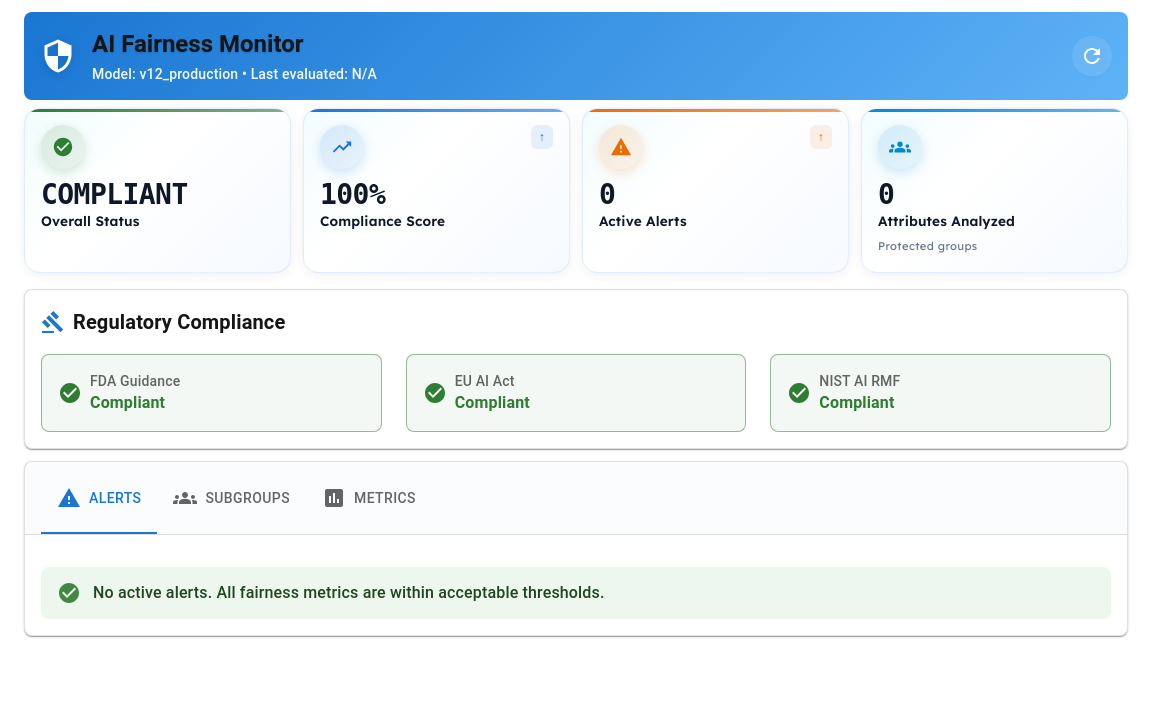
FairnessDashboard — Empty Subgroups/Metrics › shows empty-state message when Metrics tab has no attributes
Expected: the heading "AI Fairness Monitor" is shown, [92,30,304,58]
Click the tab "Metrics" at (369, 498), box [306,462,432,534]
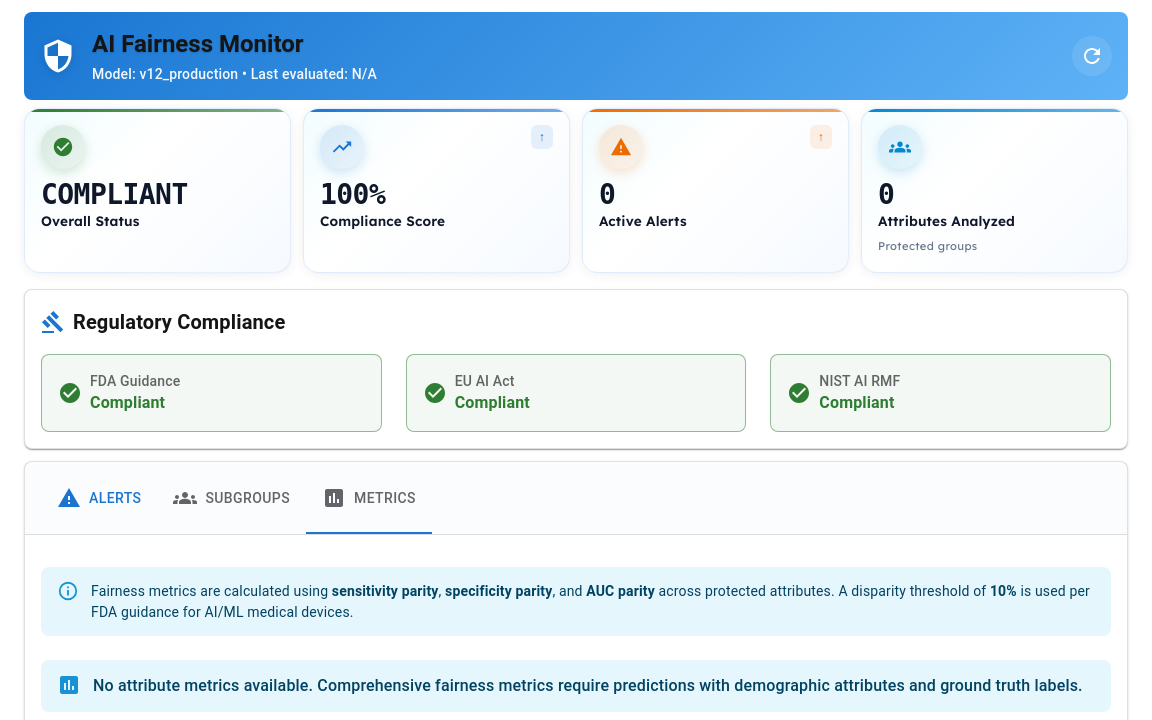
Now the text "No attribute metrics" is shown, box [93,676,1083,694]
